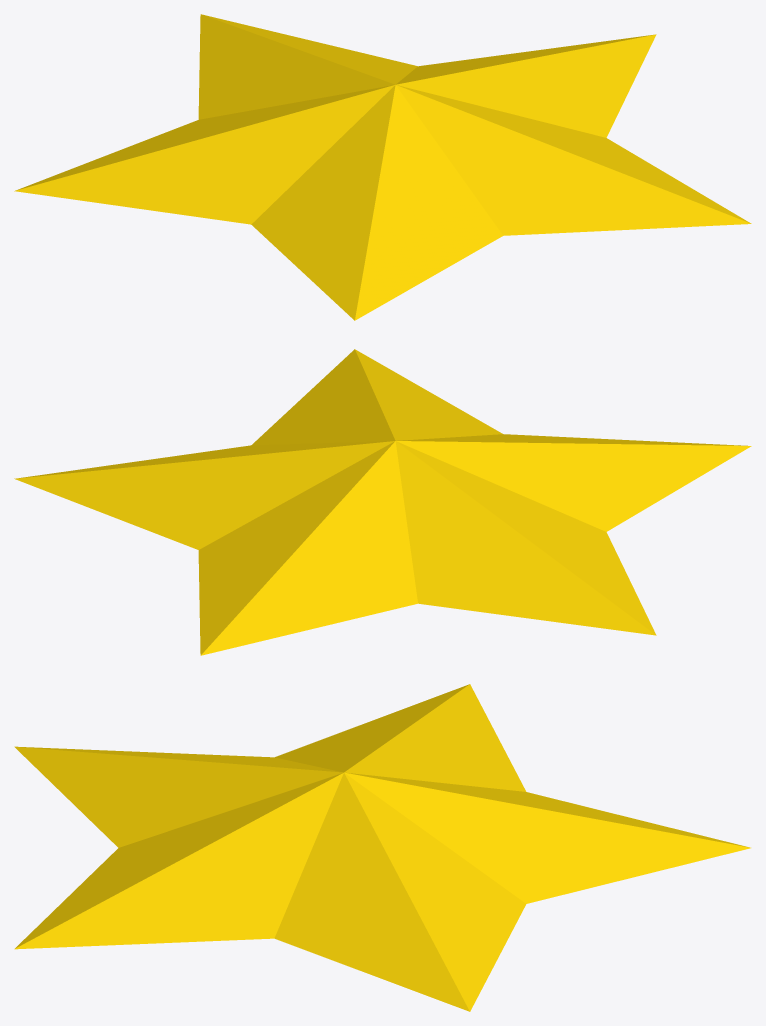
The model's file is star.01.glb.
3 views of the same model, one above another, from view 1: azimuth 30°, elevation 25°; view 2: azimuth 150°, elevation 25°; view 3: azimuth 270°, elevation 25° (orthographic). The views are drawn at different scales.
Parts seen in each view (by area): view 1: Circle.002; view 2: Circle.002; view 3: Circle.002.
Boxes of the visible parts, x1,y1,x2,y2 form: Circle.002: (14, 14, 751, 320); Circle.002: (14, 349, 751, 655); Circle.002: (14, 684, 750, 1011).
Bounding box in the file's own units: 0.6959 × 0.1493 × 0.6618.
Materials: 1 (1 with a texture image).
